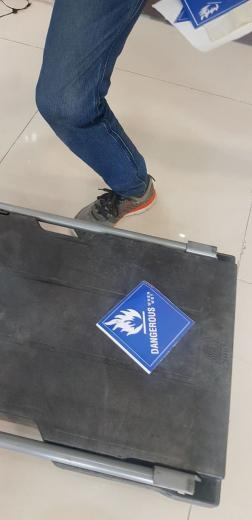Dangerous when wet: (96, 280, 195, 374), (181, 1, 248, 29)
